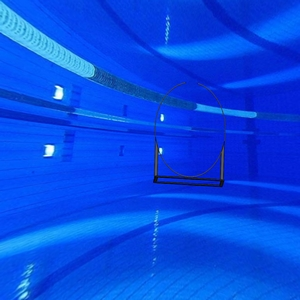circle: (152, 81, 228, 190)
